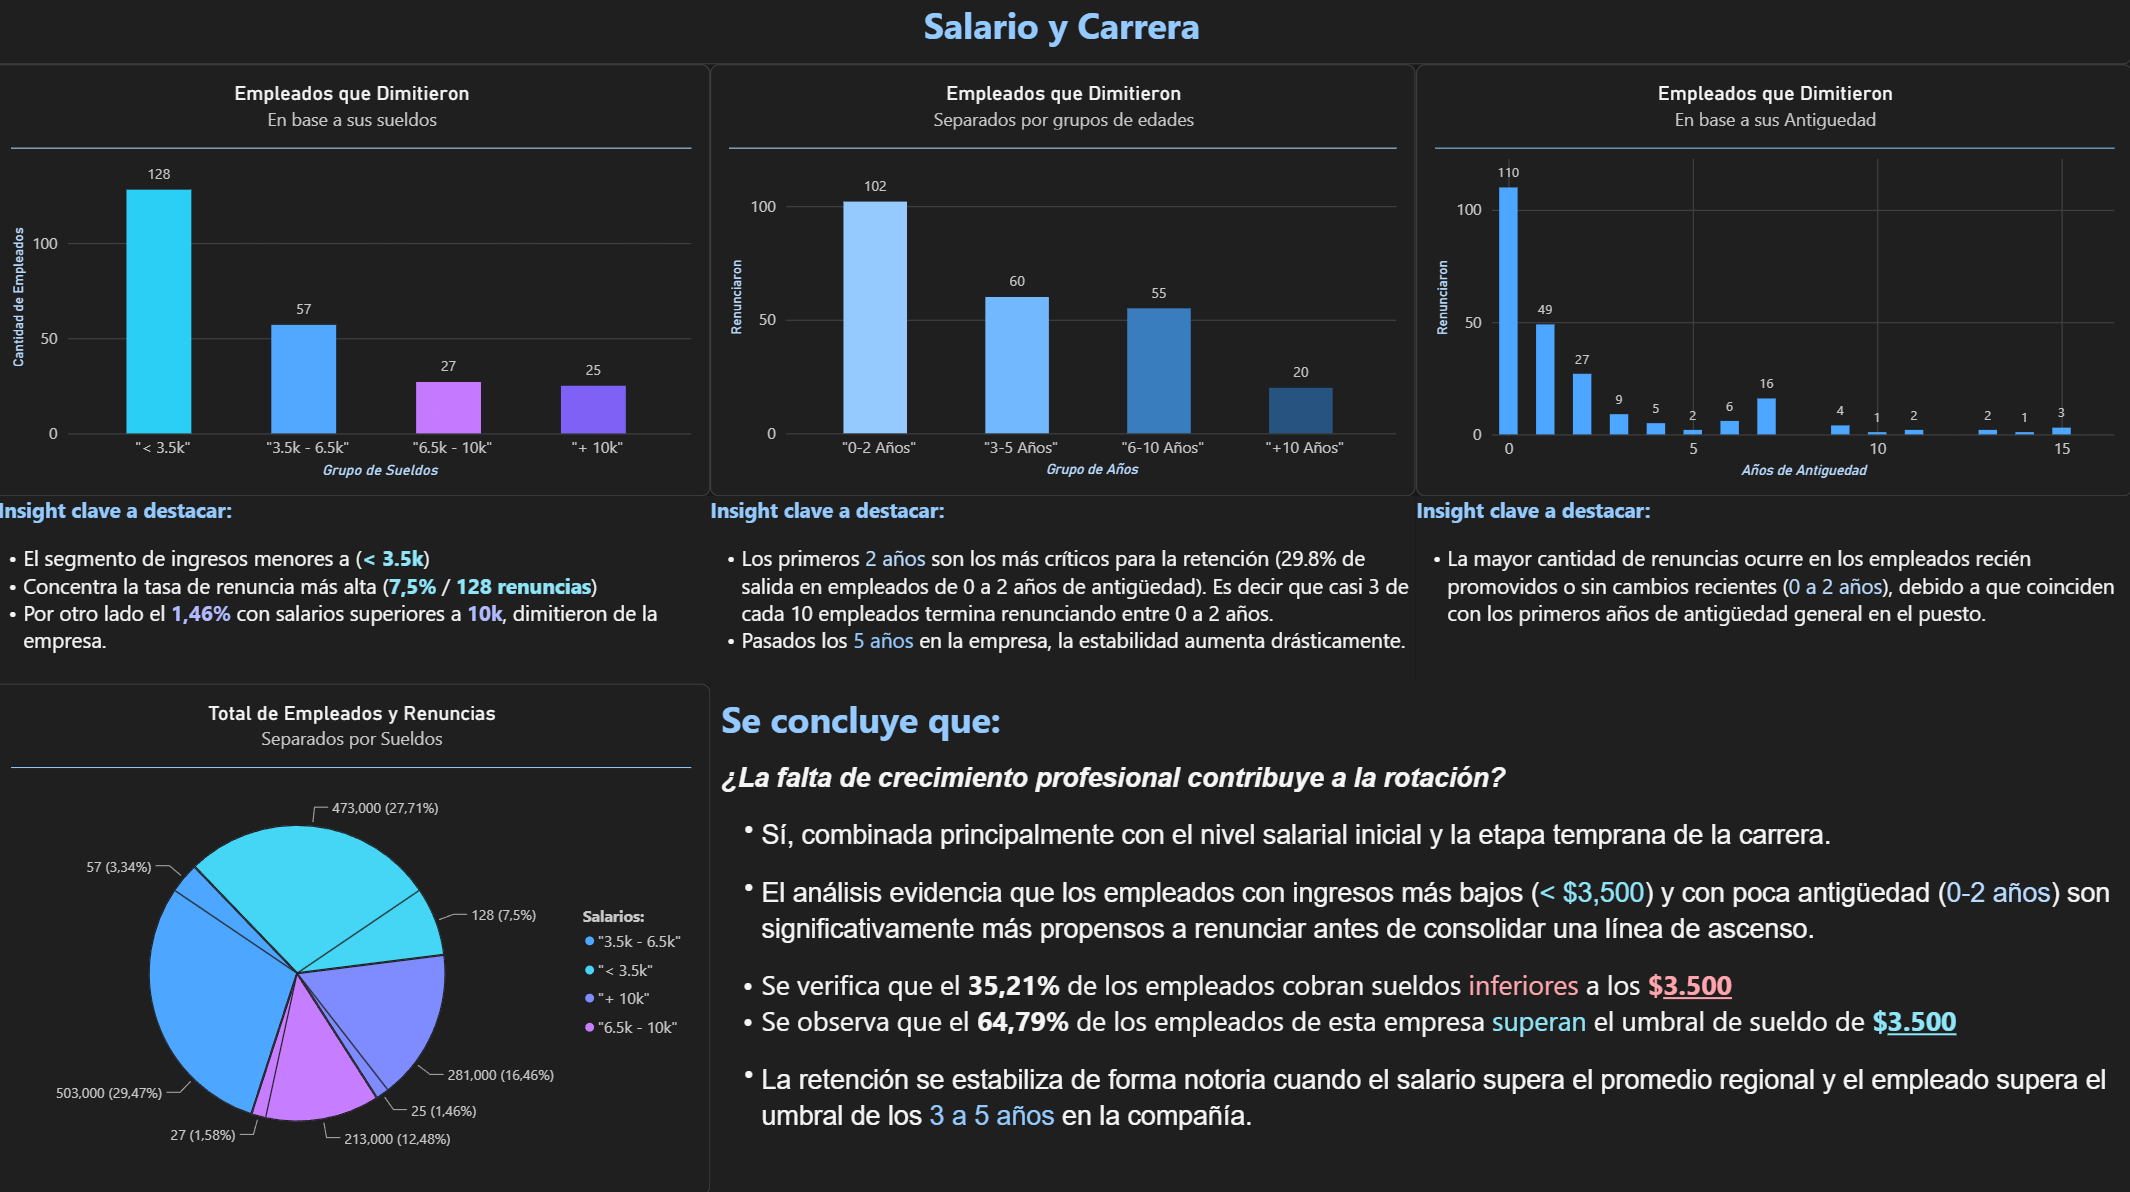

This screenshot's page, from the dashboard's own definition file:
{"tool":"powerbi","page":{"name":"Salarios y Carreras","canvas":[1920,1080],"ordinal":4},"visuals":[{"type":"textbox","box":[0,0,1919,66],"z":0},{"type":"clusteredColumnChart","title":"Empleados que Dimitieron","fields":{"Category":["Employees.IncomeGroup"],"Y":["Employees.Employees Left"]},"box":[0,65.9,643.9,387.3],"z":1000},{"type":"textbox","box":[0,453.1,643.9,168.1],"z":2000},{"type":"clusteredColumnChart","title":"Empleados que Dimitieron","fields":{"Category":["Employees.YearsGroup"],"Y":["Employees.Employees Left"]},"box":[643.9,65.9,632.6,387.3],"z":3000},{"type":"clusteredColumnChart","title":"Empleados que Dimitieron","fields":{"Category":["Employees.YearsSinceLastPromotion"],"Y":["Employees.Employees Left"]},"box":[1276.5,65.9,642.8,387.3],"z":4000},{"type":"textbox","box":[643.9,453.1,632.6,168.1],"z":5000},{"type":"textbox","box":[1276.5,453.1,641.7,168.1],"z":6000},{"type":"pieChart","title":"Total de Empleados y Renuncias","fields":{"Category":["Employees.IncomeGroup"],"Y":["Employees.Total Employees","Employees.Employees Left"]},"box":[0,621.2,643.9,458.8],"z":7000},{"type":"textbox","box":[644.4,621.4,1273.5,459],"z":8000}]}

Visuals, with their boxes in screenshot pixels (x1, y1, x2, y2), scaled from the page's 1920x1080 canvas onto the 2130x1192 screenshot:
textbox: box=[0, 0, 2129, 73]
"Empleados que Dimitieron" clusteredColumnChart: box=[0, 73, 714, 500]
textbox: box=[0, 500, 714, 686]
"Empleados que Dimitieron" clusteredColumnChart: box=[714, 73, 1416, 500]
"Empleados que Dimitieron" clusteredColumnChart: box=[1416, 73, 2129, 500]
textbox: box=[714, 500, 1416, 686]
textbox: box=[1416, 500, 2128, 686]
"Total de Empleados y Renuncias" pieChart: box=[0, 686, 714, 1191]
textbox: box=[715, 686, 2128, 1191]
